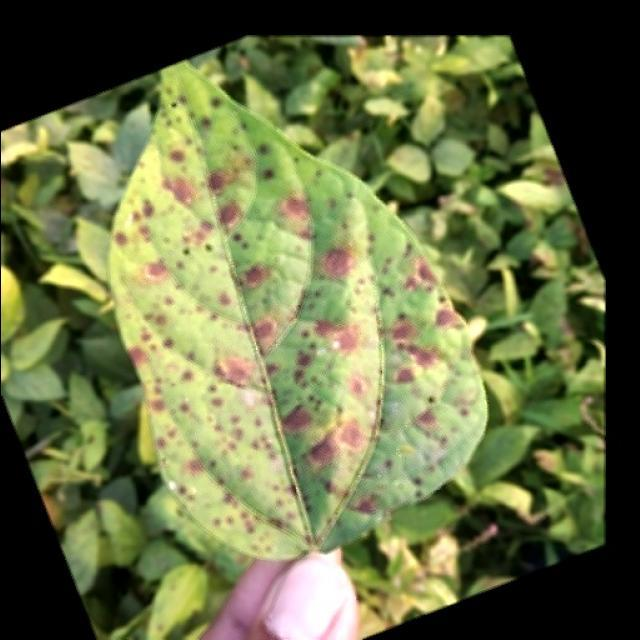leaves: (48, 6, 519, 596)
